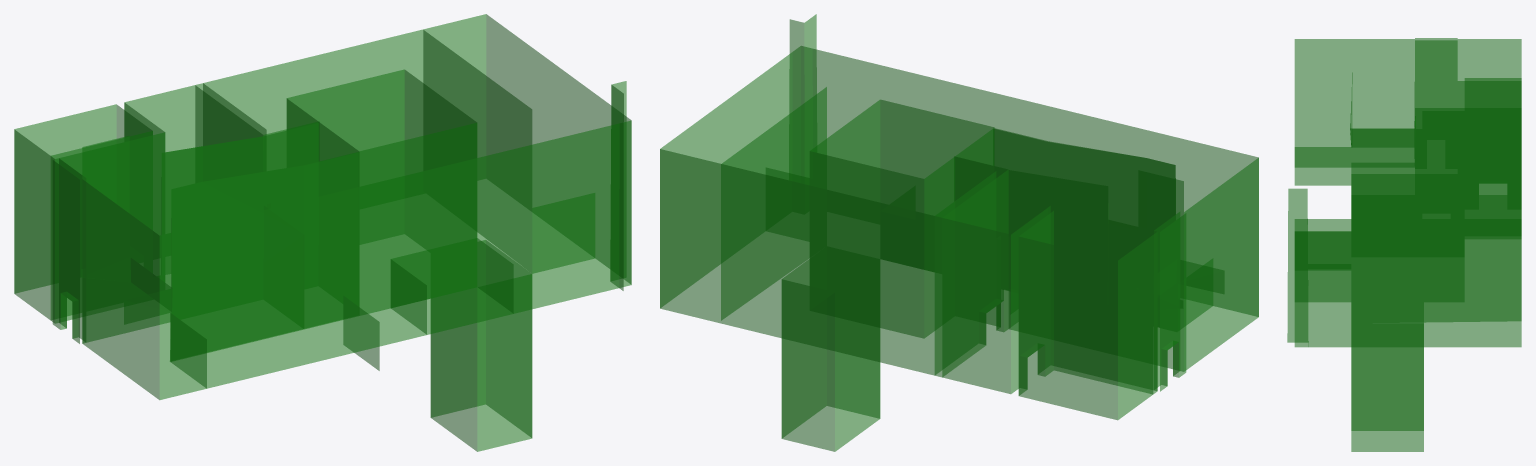
The model's file is wall_A03.obj.
3 renders of one model, left to right at view 1: azimuth 30°, elevation 25°; view 2: azimuth 150°, elevation 25°; view 3: azimuth 270°, elevation 25°, orthographic. The views are drawn at different scales.
Size of the model in its own units: 60.79 by 43.97 by 33.
